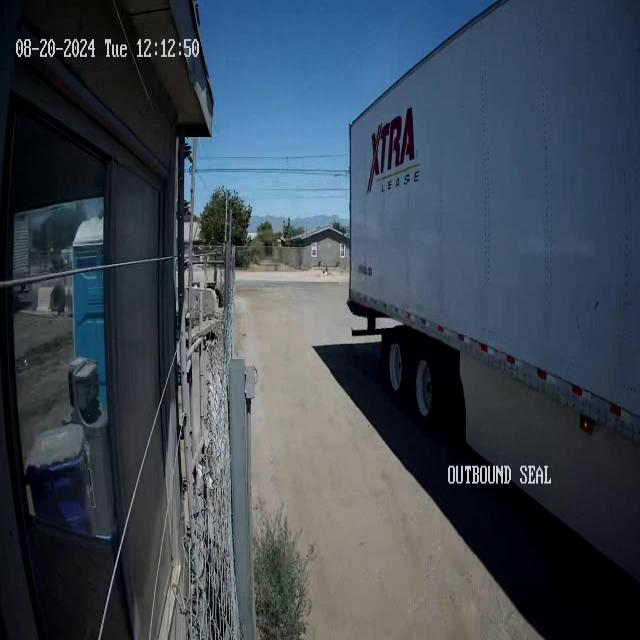TRUCK_CONTAINER: (347, 1, 639, 442)
